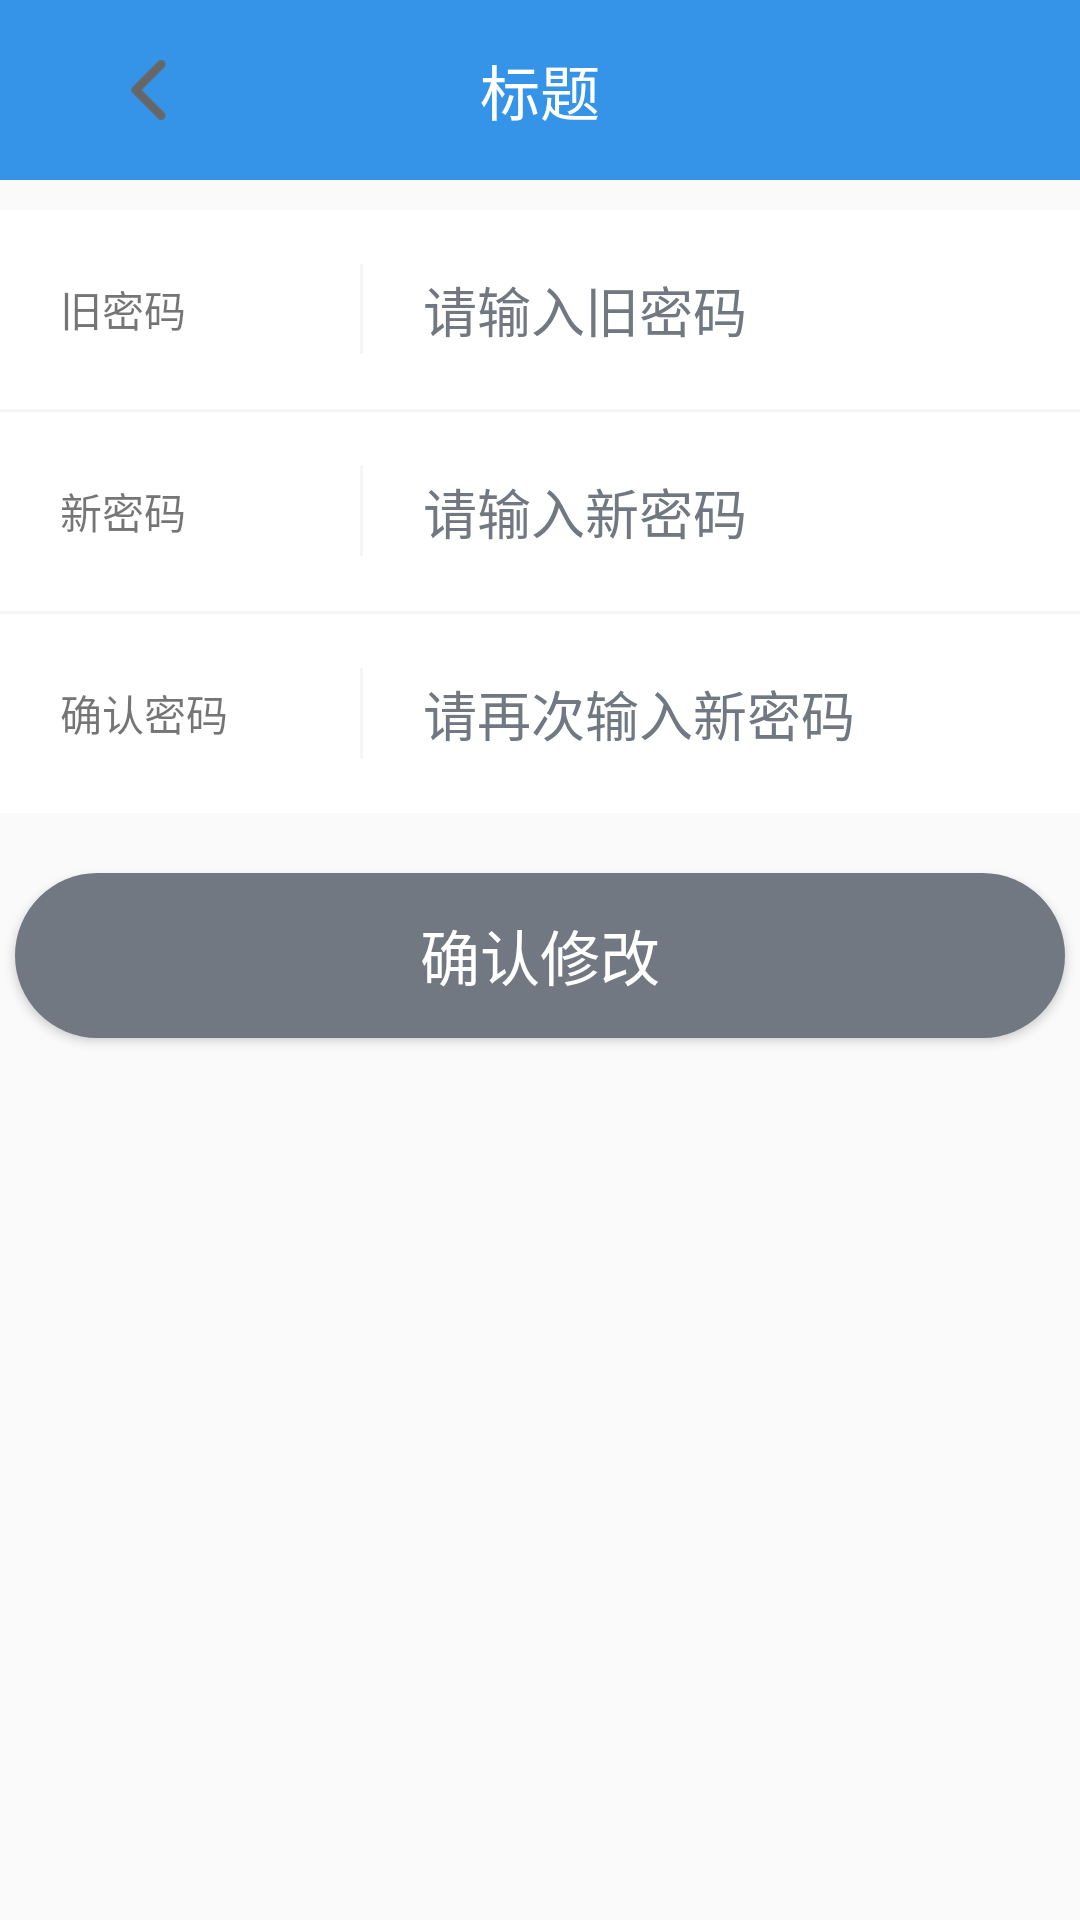

Screen size 1080 x 1920. Icon name, then its box in pixels as (x1, y1, x2, y2):
back: (131, 60, 166, 120)
